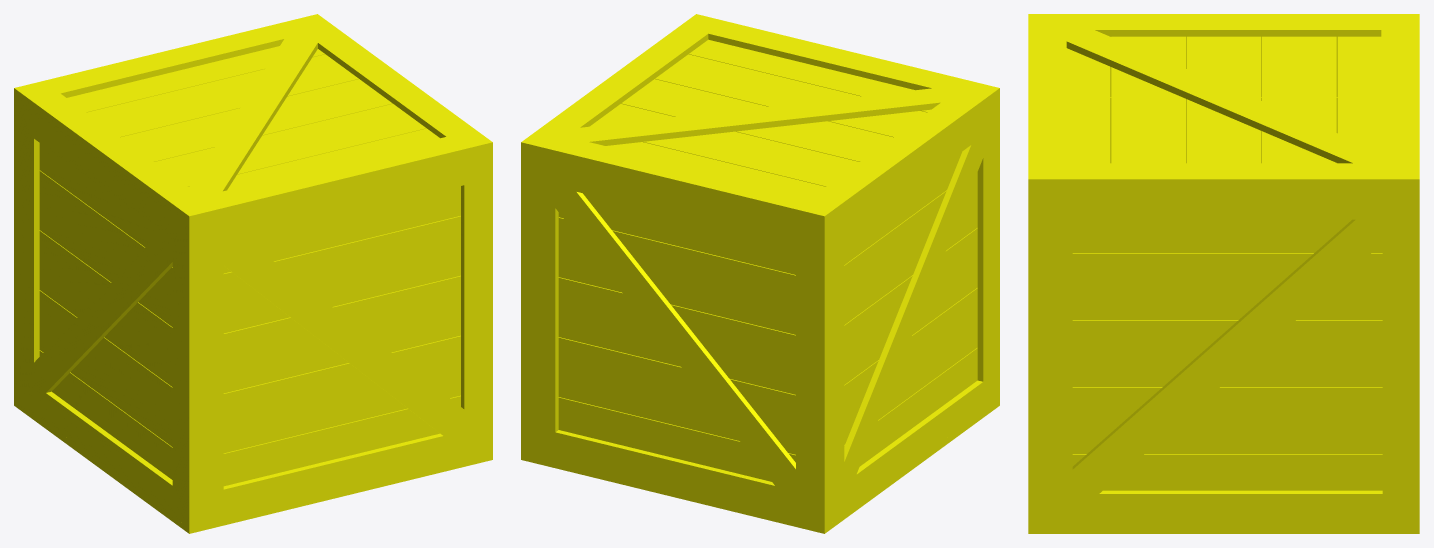
3 renders of one model, left to right at view 1: azimuth 30°, elevation 25°; view 2: azimuth 150°, elevation 25°; view 3: azimuth 270°, elevation 25°, orthographic. The views are drawn at different scales.
Visible parts, largest first — view 1: Crate-04_case, Crate-04_cover; view 2: Crate-04_case, Crate-04_cover; view 3: Crate-04_case, Crate-04_cover.
Boxes of the visible parts, x1,y1,x2,y2 form: Crate-04_case: (14,94,492,533); Crate-04_cover: (14,14,492,222); Crate-04_case: (521,94,999,533); Crate-04_cover: (521,14,999,222); Crate-04_case: (1028,36,1419,533); Crate-04_cover: (1028,14,1419,185).
Bounding box in the file's own units: 0.53 × 0.53 × 0.53.
1 material, 1 textured.
